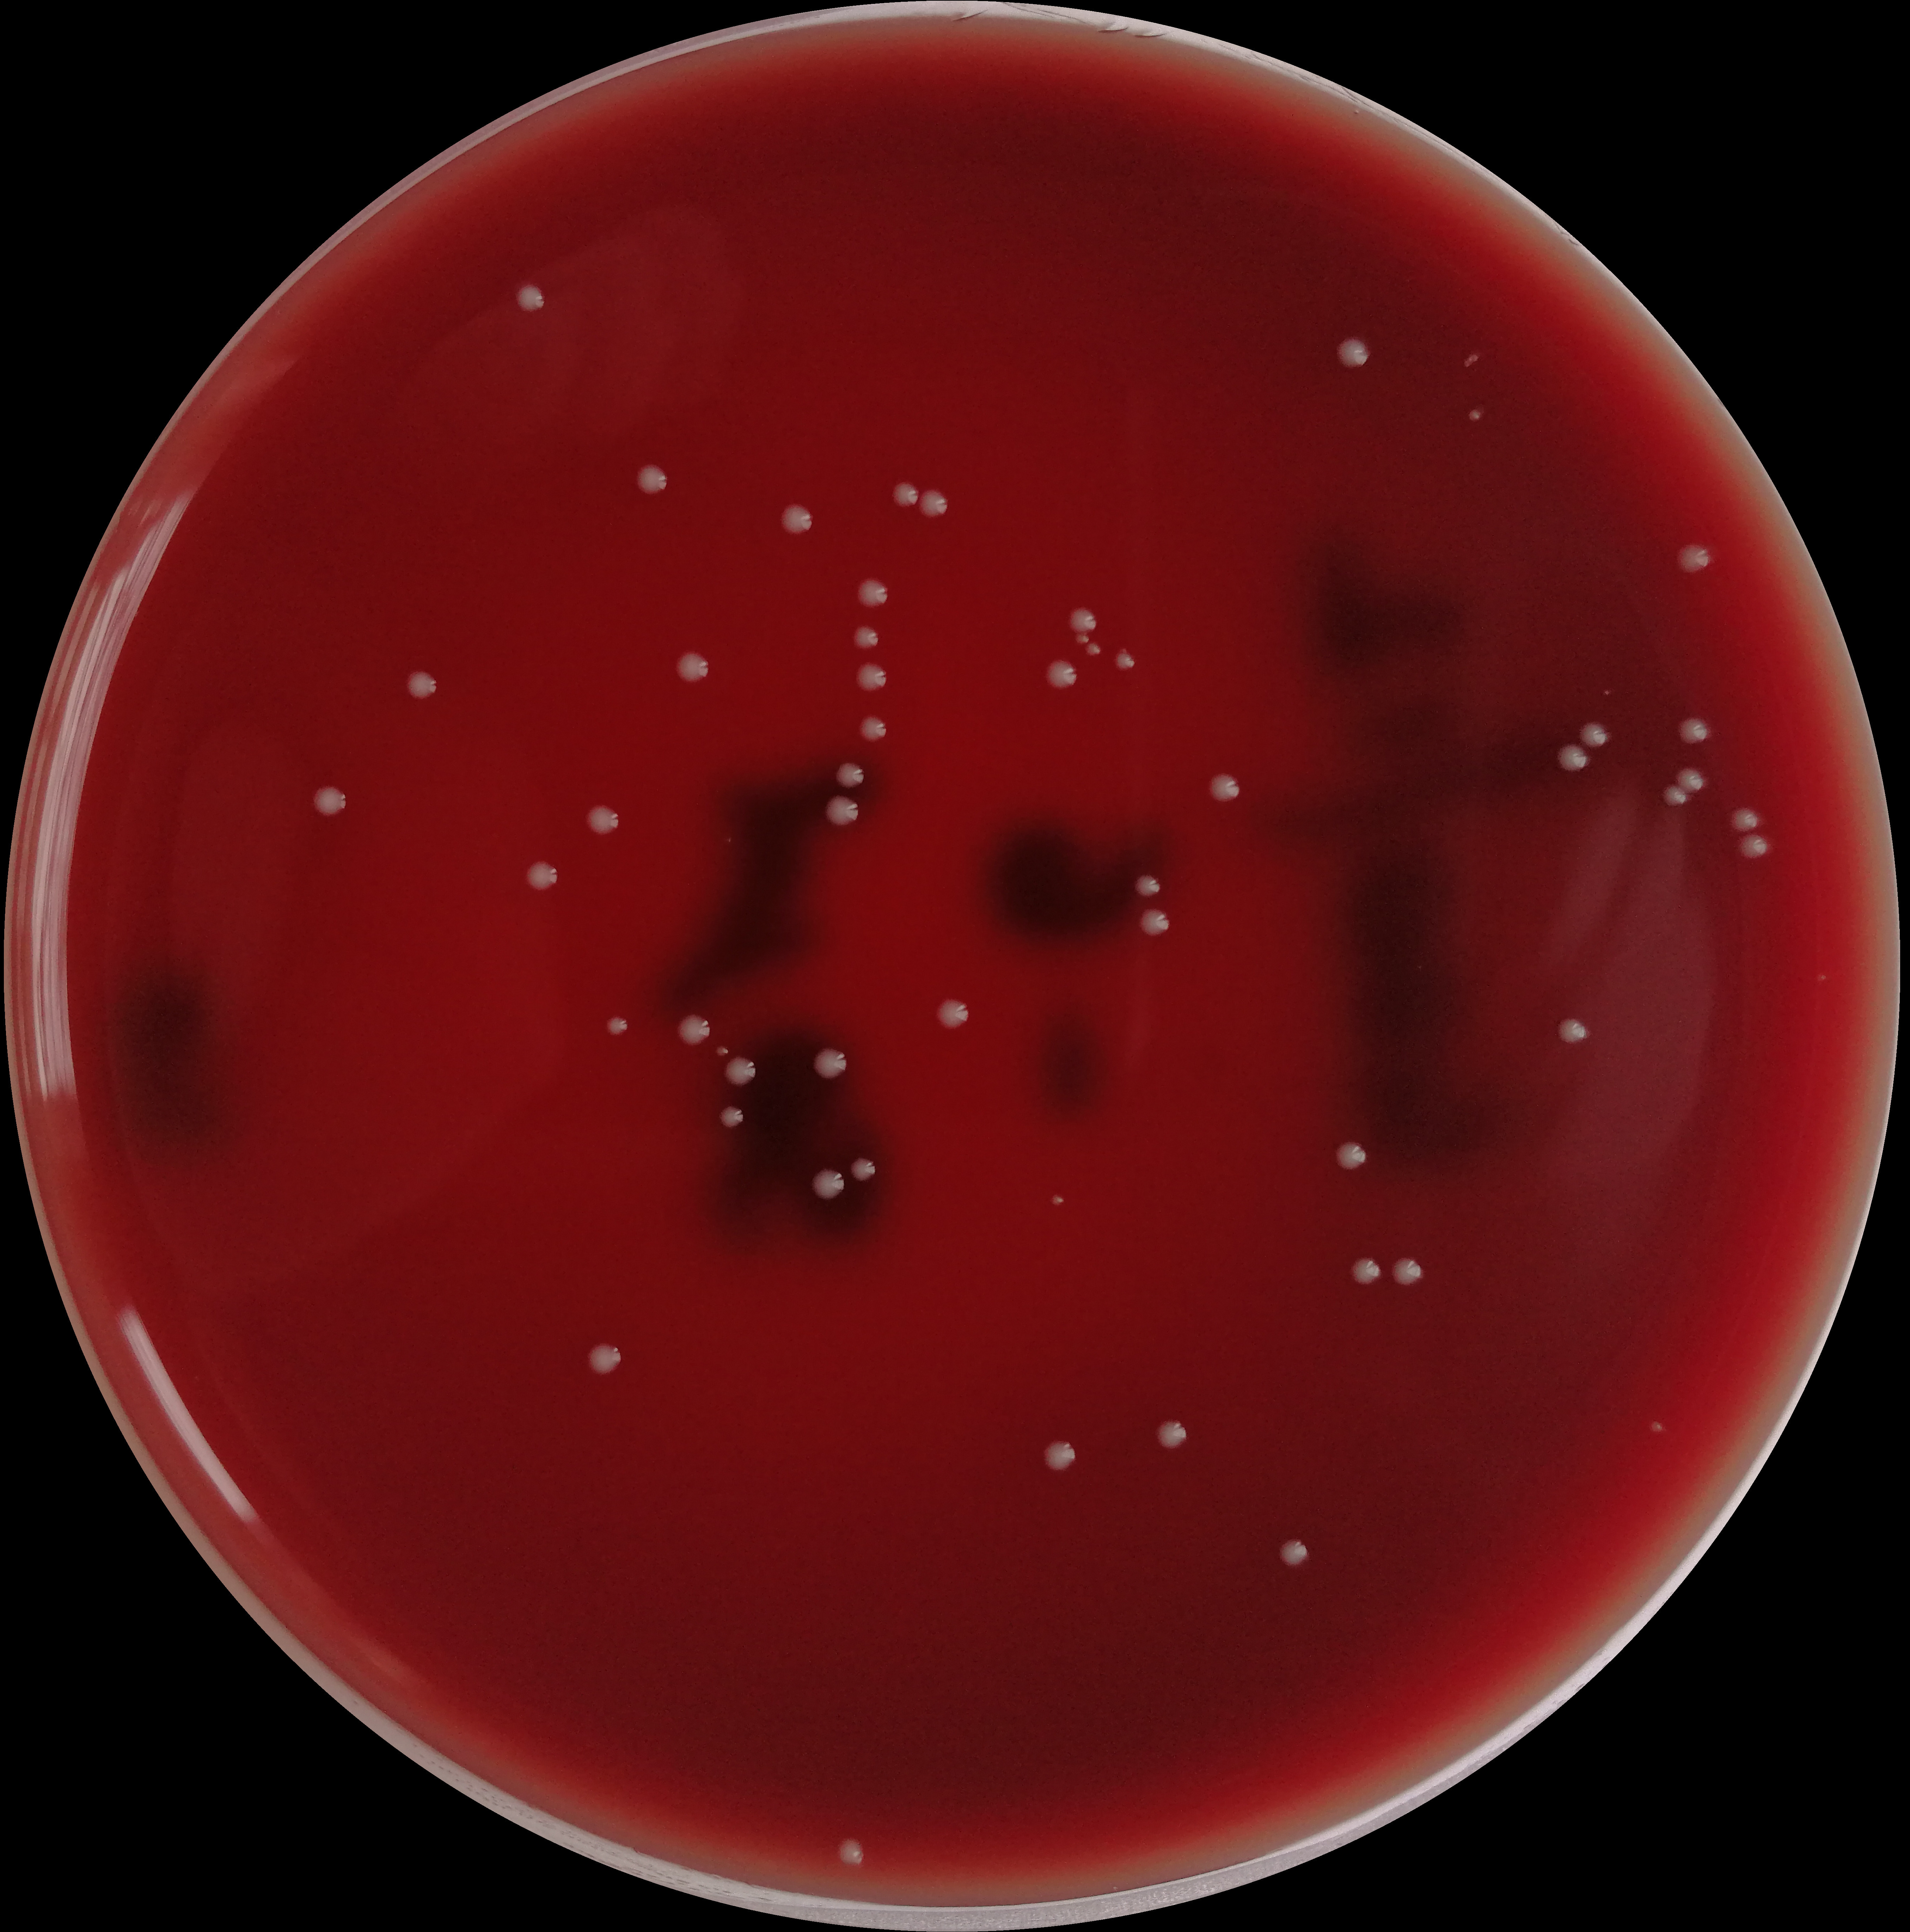sp21: (308, 783, 350, 824), (673, 1011, 715, 1049), (1553, 1012, 1597, 1049), (582, 801, 621, 841), (810, 1046, 852, 1082), (1551, 741, 1590, 780), (1735, 827, 1774, 865), (1674, 537, 1711, 577), (631, 462, 670, 498), (523, 857, 561, 893), (721, 1054, 761, 1089), (854, 575, 890, 612), (1389, 1254, 1426, 1290), (822, 794, 861, 829), (584, 1341, 623, 1376), (932, 997, 971, 1032), (670, 650, 712, 682), (850, 659, 887, 694), (778, 504, 817, 537), (1039, 1441, 1077, 1474), (1576, 719, 1618, 748), (1677, 712, 1712, 747), (1335, 336, 1370, 371), (1044, 657, 1081, 691), (404, 670, 441, 703), (1333, 1140, 1370, 1173), (812, 1168, 847, 1201), (1154, 1418, 1189, 1451), (1137, 907, 1172, 941), (511, 283, 547, 315), (1207, 771, 1244, 803), (1347, 1255, 1384, 1287), (834, 1836, 871, 1867), (915, 486, 948, 519), (857, 712, 890, 745), (834, 759, 868, 792), (889, 479, 924, 511), (1277, 1537, 1308, 1570), (1065, 607, 1100, 635), (1658, 782, 1693, 810), (850, 622, 883, 650), (1728, 804, 1758, 834), (1132, 872, 1163, 900), (1676, 764, 1707, 792), (848, 1156, 878, 1184), (1112, 645, 1139, 673), (717, 1105, 747, 1129), (602, 1014, 630, 1037), (1466, 404, 1490, 428), (1083, 640, 1105, 656), (1459, 351, 1481, 367), (1072, 633, 1093, 649), (714, 1042, 731, 1060), (1048, 1192, 1067, 1208), (1649, 1420, 1665, 1434), (1816, 969, 1831, 983)
